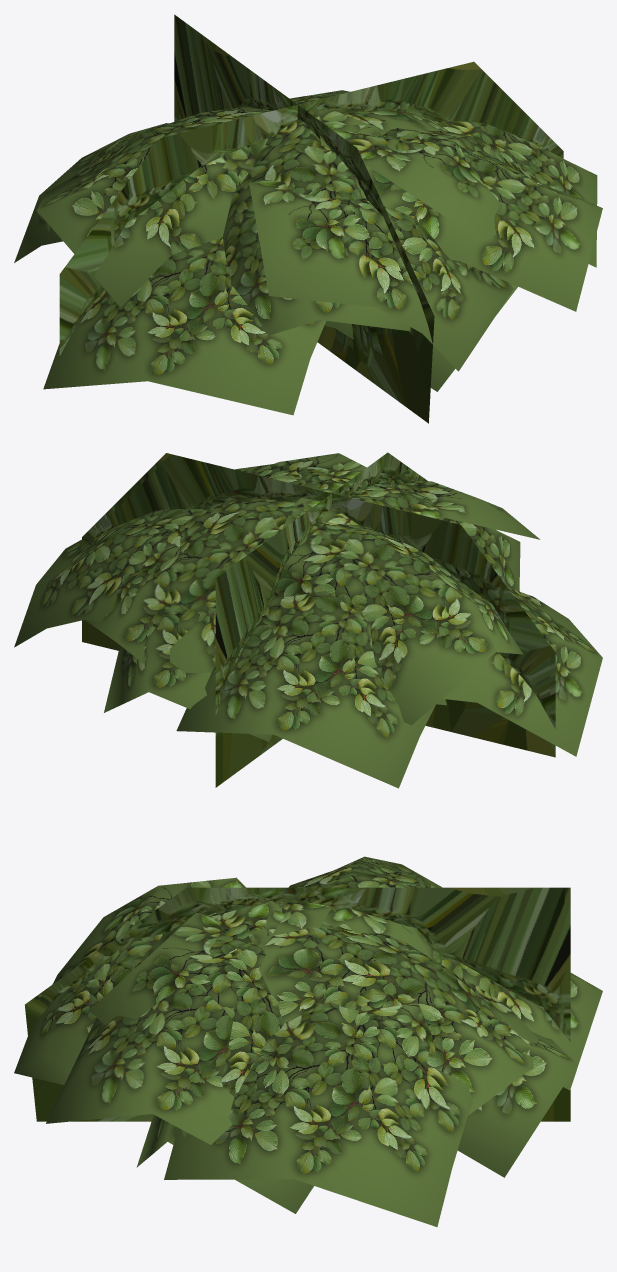
Rendered from Bush2.fbx.
The picture shows the model from 3 angles, top to bottom: view 1: azimuth 30°, elevation 25°; view 2: azimuth 150°, elevation 25°; view 3: azimuth 270°, elevation 25°; orthographic projection. The views are drawn at different scales.
Visible parts, largest first — view 1: LOD0, Billboard; view 2: LOD0, Billboard; view 3: LOD0, Billboard.
Part boxes in pixels (x1,y1,x2,y2): LOD0: (14,90,602,415); Billboard: (59,14,563,423); LOD0: (14,453,602,788); Billboard: (82,452,555,787); LOD0: (14,856,602,1226); Billboard: (25,887,570,1121).
Size of what is drawn, in the model's own units: 242 by 101 by 214.
